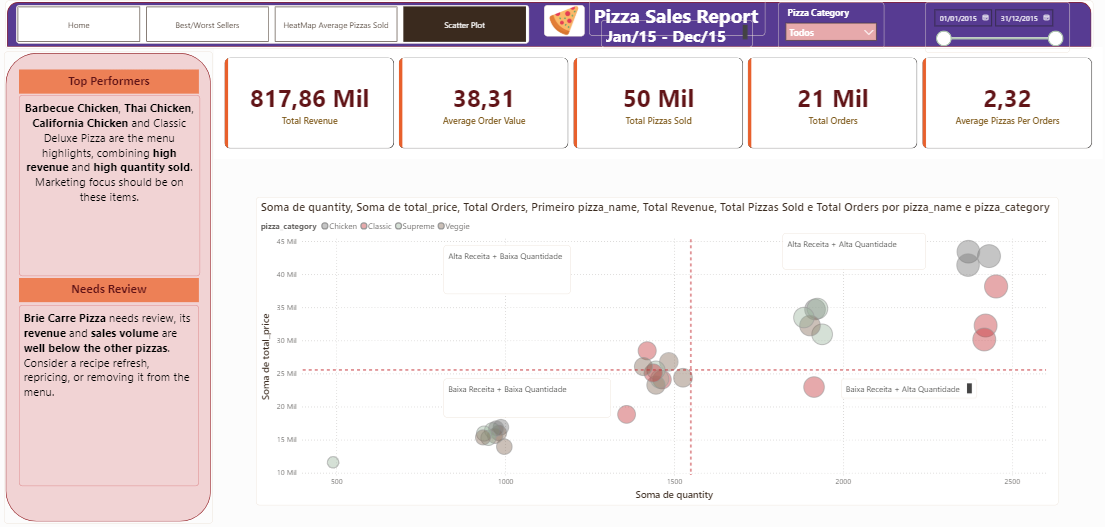

The page's visual inventory and layout, read from the dashboard file:
{"tool":"powerbi","page":{"name":"Scatter Plot ","canvas":[1920,1080],"ordinal":3},"visuals":[{"type":"cardVisual","fields":{"Data":["vw_pizza_sales_analytics.Total Revenue","vw_pizza_sales_analytics.Average Order Value","vw_pizza_sales_analytics.Total Pizzas Sold","vw_pizza_sales_analytics.Total Orders","vw_pizza_sales_analytics.Average Pizzas Per Orders"]},"box":[387.2,213.5,1472,185.1],"z":0},{"type":"shape","box":[42.7,136.7,1802.3,79.7],"z":1000},{"type":"shape","box":[40,222,346.4,782],"z":1000,"group":"g1"},{"type":"textbox","box":[1009.2,132.3,291.6,62.7],"z":2000},{"type":"textbox","box":[1028.7,169,250.6,45.4],"z":3000},{"type":"image","box":[933.6,143.1,67,51.8],"z":4000},{"type":"slicer","fields":{"Values":["vw_pizza_sales_analytics.pizza_category"]},"box":[1322,138,176,78],"z":5000},{"type":"slicer","fields":{"Values":["vw_pizza_sales_analytics.order_date"]},"box":[1566,138,240,84],"z":6000},{"type":"group","id":"g1","title":"Grupo 3","box":[36,222,350.4,782],"z":7000},{"type":"scatterChart","fields":{"Category":["vw_pizza_sales_analytics.pizza_name"],"X":["Sum(vw_pizza_sales_analytics.quantity)"],"Y":["Sum(vw_pizza_sales_analytics.total_price)"],"Series":["vw_pizza_sales_analytics.pizza_category"],"Size":["vw_pizza_sales_analytics.Total Orders"]},"box":[458.3,462.5,1329.2,510.4],"z":8000},{"type":"textbox","box":[766.7,541.7,210.4,81.2],"z":9000},{"type":"textbox","box":[36,632,346,48],"z":10000,"group":"g1"},{"type":"textbox","box":[766.7,762.5,277.1,64.6],"z":10000},{"type":"textbox","box":[1329.2,522.9,237.5,60.4],"z":11000},{"type":"textbox","box":[36,294,346,48],"z":12000,"group":"g1"},{"type":"textbox","box":[1425,762.5,225,33.3],"z":12000},{"type":"textbox","box":[36,680,348,294],"z":13000,"group":"g1"},{"type":"textbox","box":[38,336,348,286],"z":15000,"group":"g1"}]}

Visuals, with their boxes on the page's 1920x1080 design canvas (x1, y1, x2, y2). These are canvas units, not pixel positions in the 1105x527 screenshot, which may show the page scaled, cropped or inside an application window:
cardVisual - vw_pizza_sales_analytics.Total Revenue x vw_pizza_sales_analytics.Average Order Value: [left=387, top=214, right=1859, bottom=399]
shape: [left=43, top=137, right=1845, bottom=216]
shape: [left=40, top=222, right=386, bottom=1004]
textbox: [left=1009, top=132, right=1301, bottom=195]
textbox: [left=1029, top=169, right=1279, bottom=214]
image: [left=934, top=143, right=1001, bottom=195]
slicer - vw_pizza_sales_analytics.pizza_category: [left=1322, top=138, right=1498, bottom=216]
slicer - vw_pizza_sales_analytics.order_date: [left=1566, top=138, right=1806, bottom=222]
"Grupo 3" group: [left=36, top=222, right=386, bottom=1004]
scatterChart - vw_pizza_sales_analytics.pizza_name x Sum(vw_pizza_sales_analytics.quantity): [left=458, top=462, right=1788, bottom=973]
textbox: [left=767, top=542, right=977, bottom=623]
textbox: [left=36, top=632, right=382, bottom=680]
textbox: [left=767, top=762, right=1044, bottom=827]
textbox: [left=1329, top=523, right=1567, bottom=583]
textbox: [left=36, top=294, right=382, bottom=342]
textbox: [left=1425, top=762, right=1650, bottom=796]
textbox: [left=36, top=680, right=384, bottom=974]
textbox: [left=38, top=336, right=386, bottom=622]
